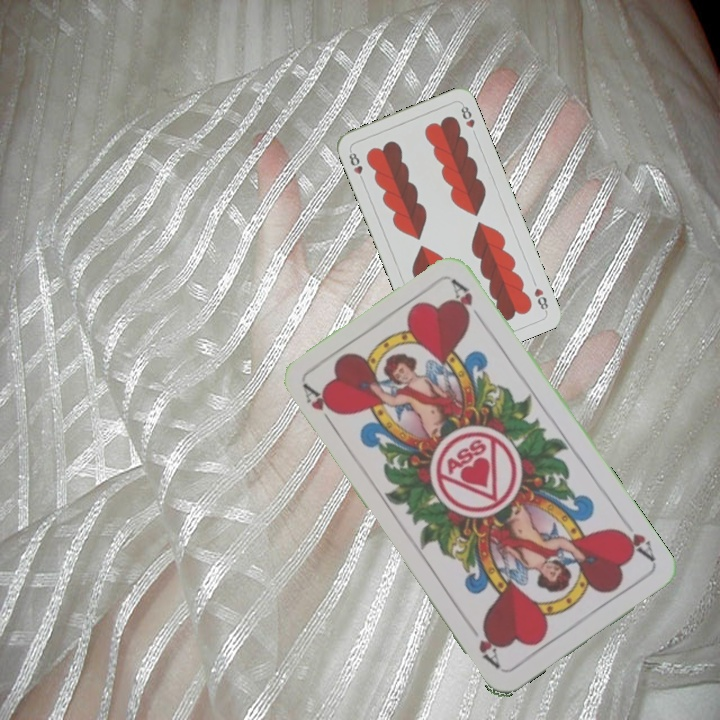H8: (345, 146, 367, 185), (530, 284, 551, 314)
HA: (299, 380, 339, 433), (612, 524, 659, 565)
